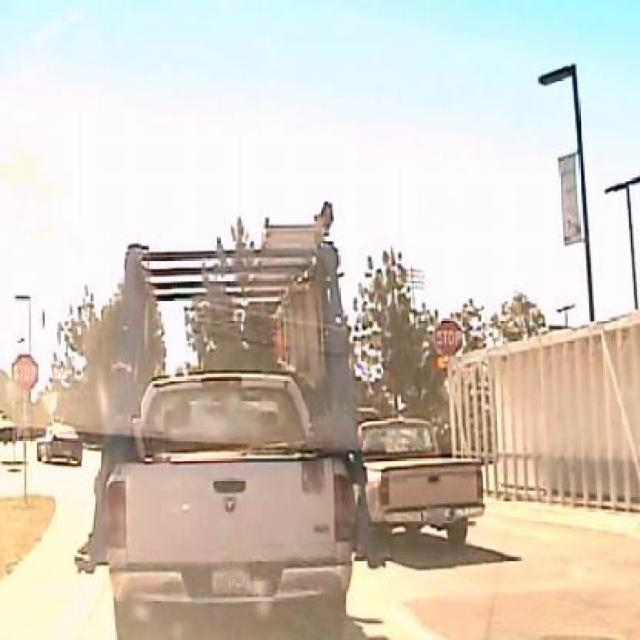Stop: (12, 353, 39, 392), (435, 320, 462, 355)
